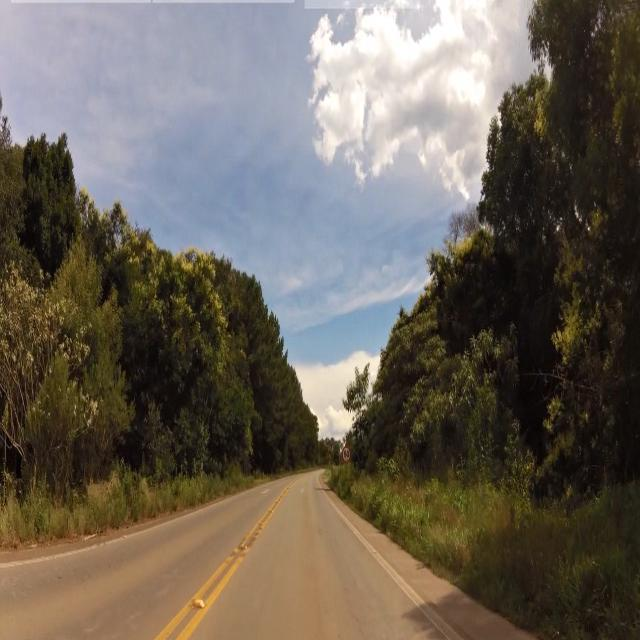R-19: (343, 445, 351, 463)
